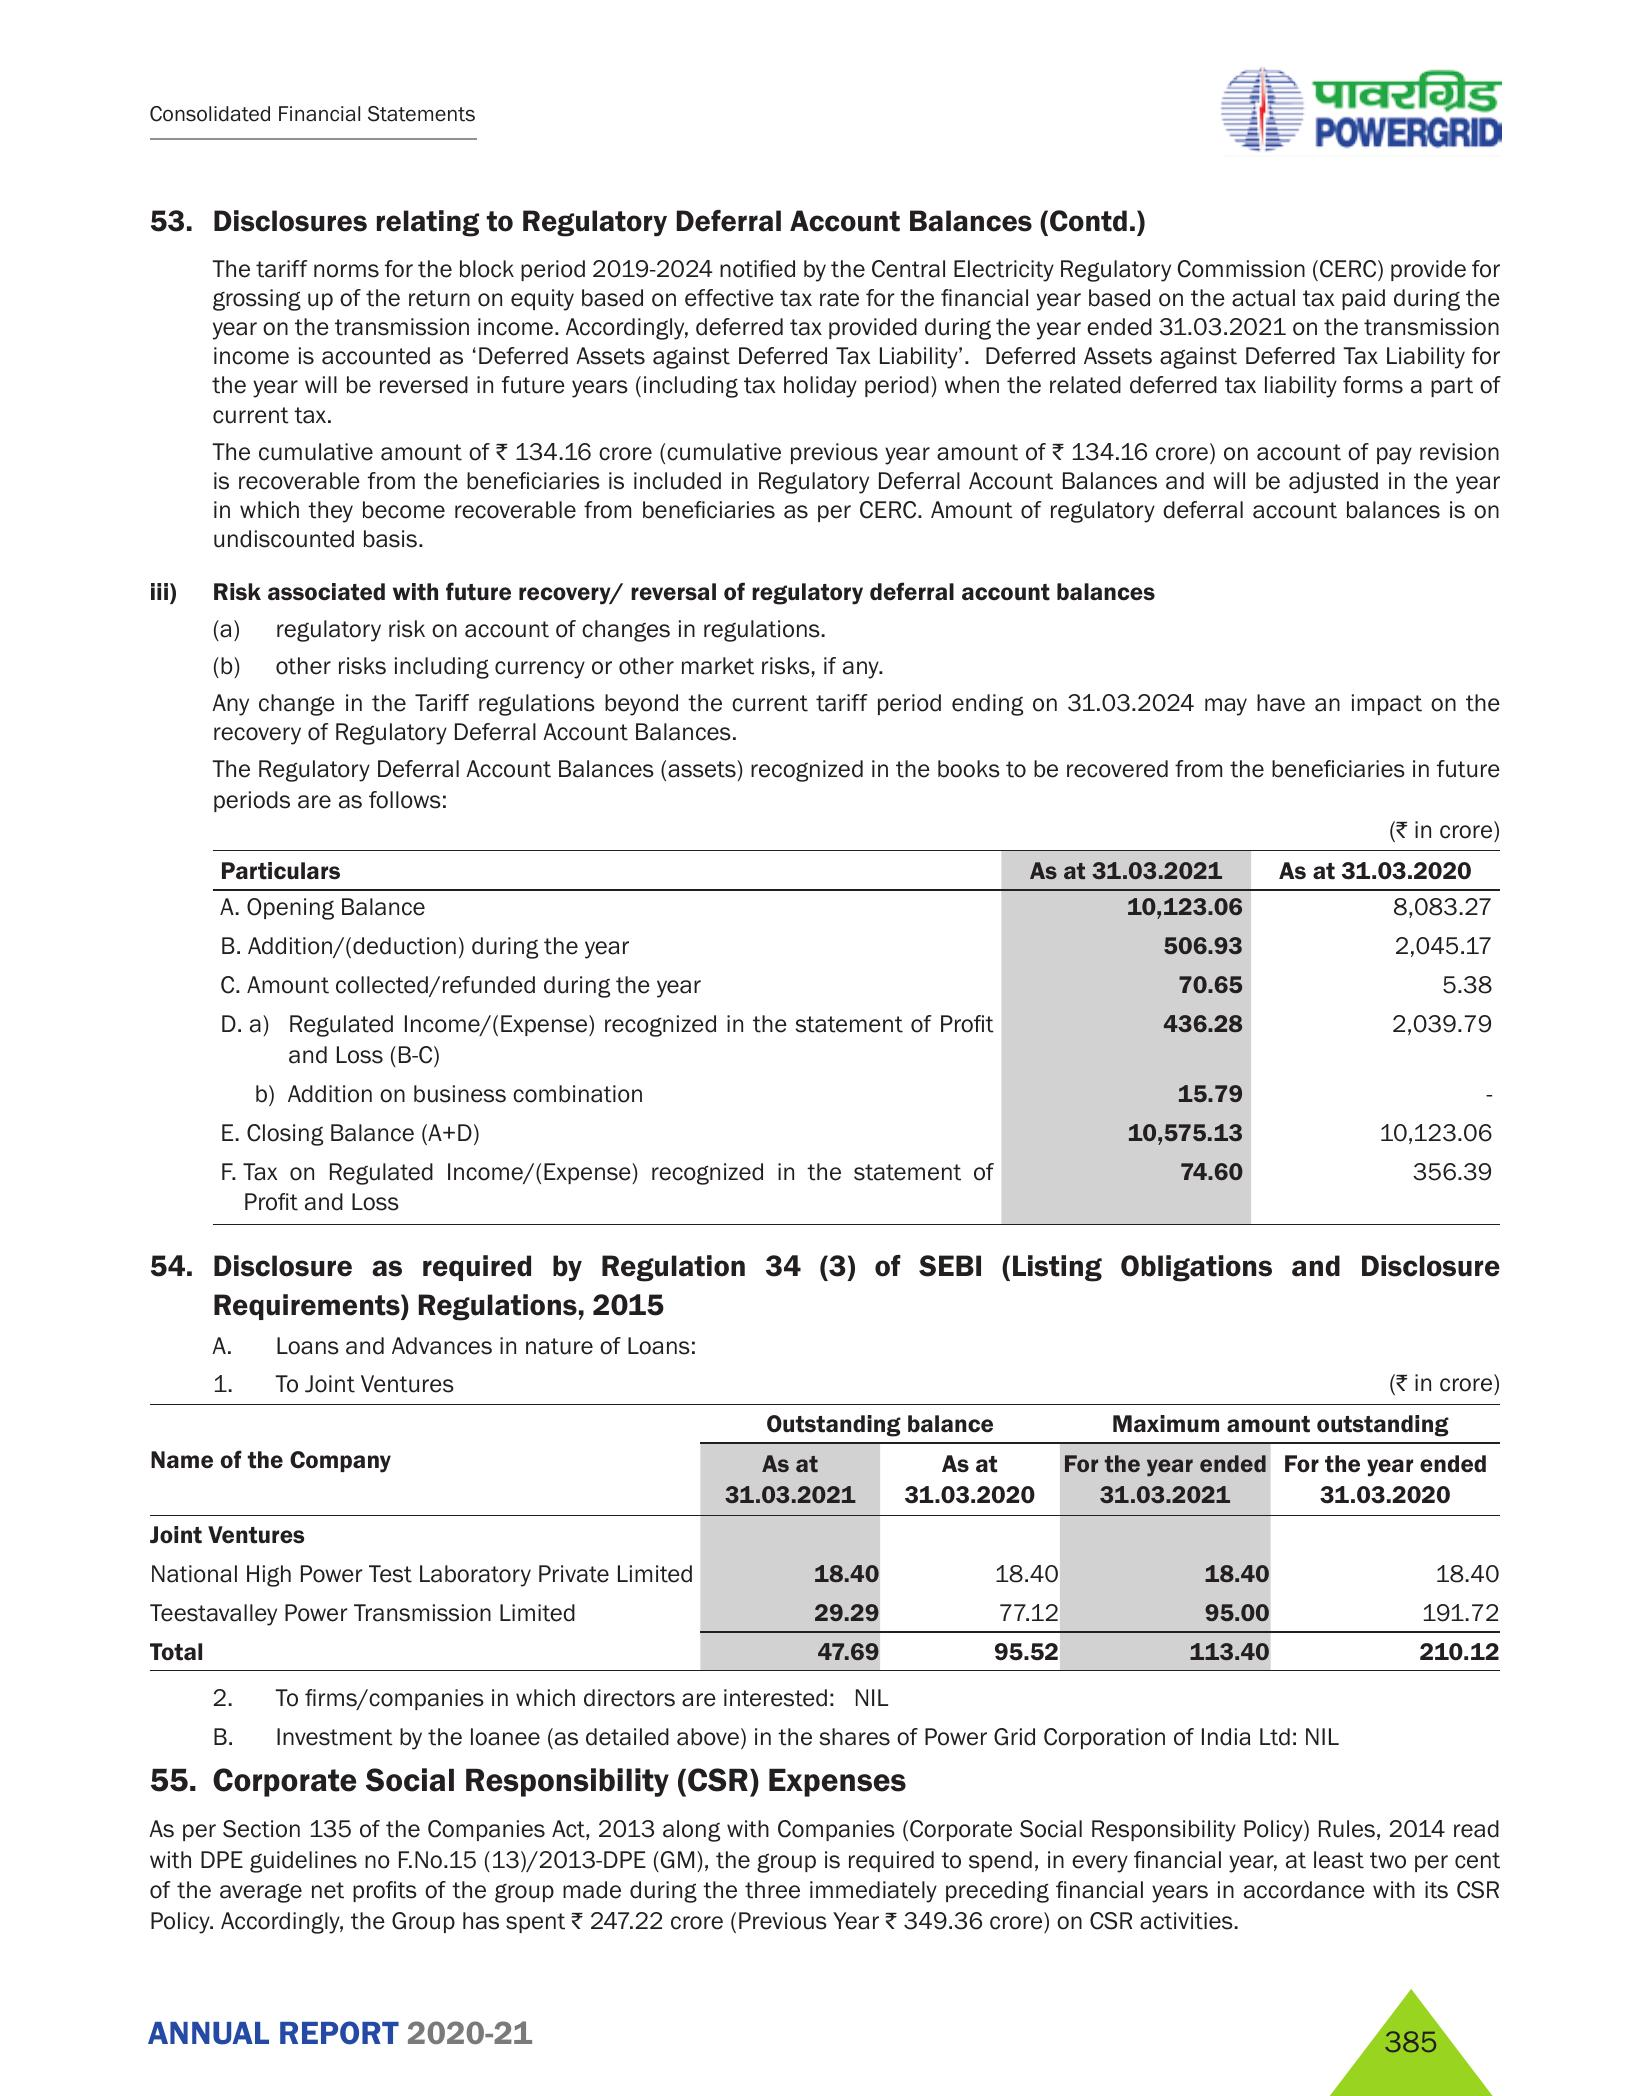Footer: (0, 1974, 1650, 2096)
Header: (0, 0, 1650, 168)
Table: (117, 810, 1533, 1186), (24, 1397, 1568, 1679)
